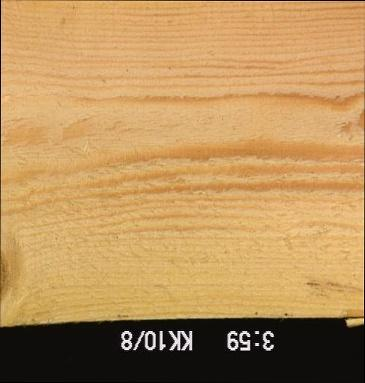sound_knot: (0, 235, 24, 318)
wave: (336, 304, 363, 318)
